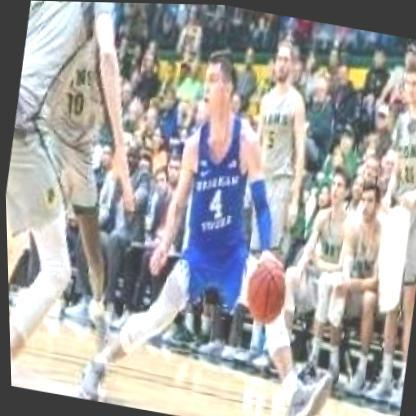basketball: (238, 254, 289, 323)
